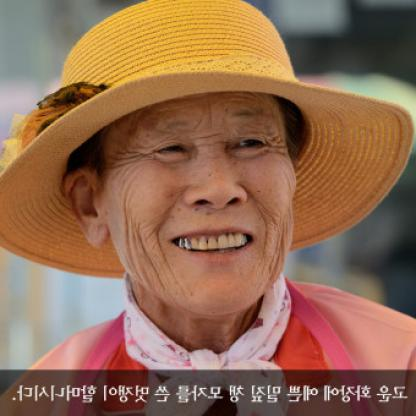hat: (2, 0, 416, 280)
